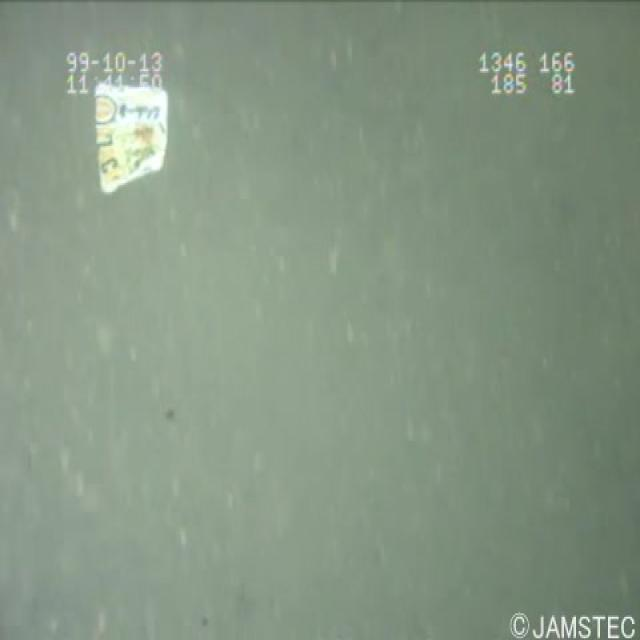plastic: (86, 76, 170, 198)
